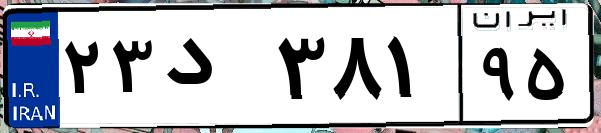1: (385, 28, 445, 110)
2: (57, 26, 110, 100)
3: (270, 28, 330, 110), (110, 28, 158, 98)
5: (525, 38, 570, 115)
8: (330, 28, 385, 110)
9: (475, 38, 525, 113)
د: (158, 20, 270, 120)
